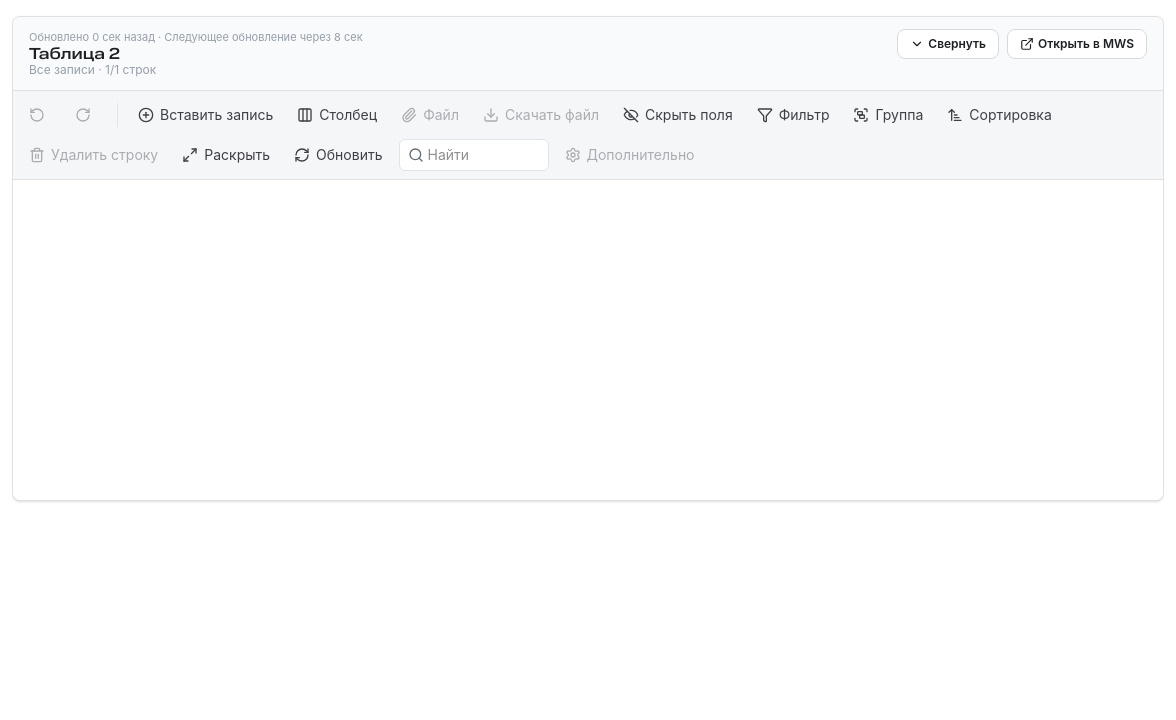
Test: MwsTableEmbedComponent › starts inline editing on the first typed key after a cell is selected
Press the mouse on the drawing with test id "mws_canvas_grid" at coordinates (588, 340), box [13,180,1163,500]
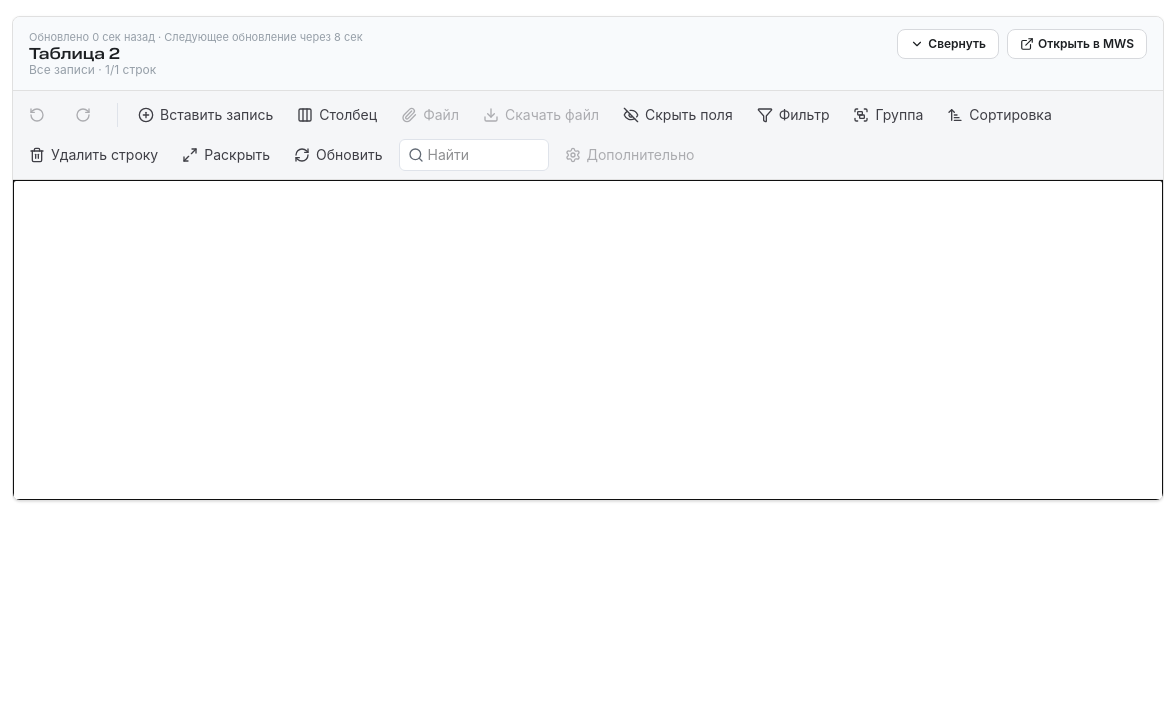
Press A in the drawing with test id "mws_canvas_grid", box [13,180,1163,500]
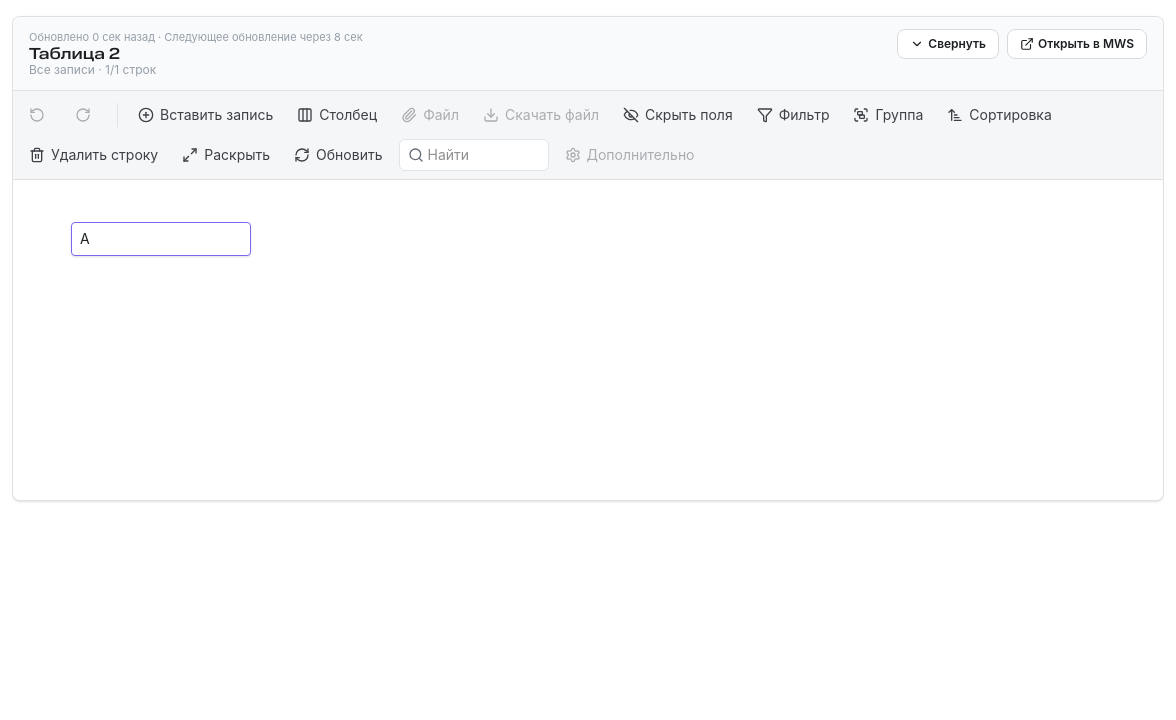
Result: the field showing "A" is shown at [71,222,251,256]
